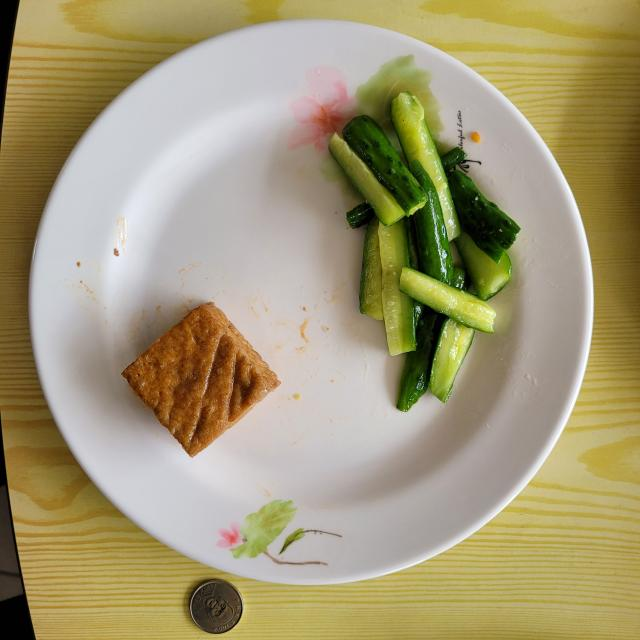coin: (190, 579, 242, 634)
cucumber: (329, 92, 520, 411)
egg tofu: (122, 302, 280, 458)
